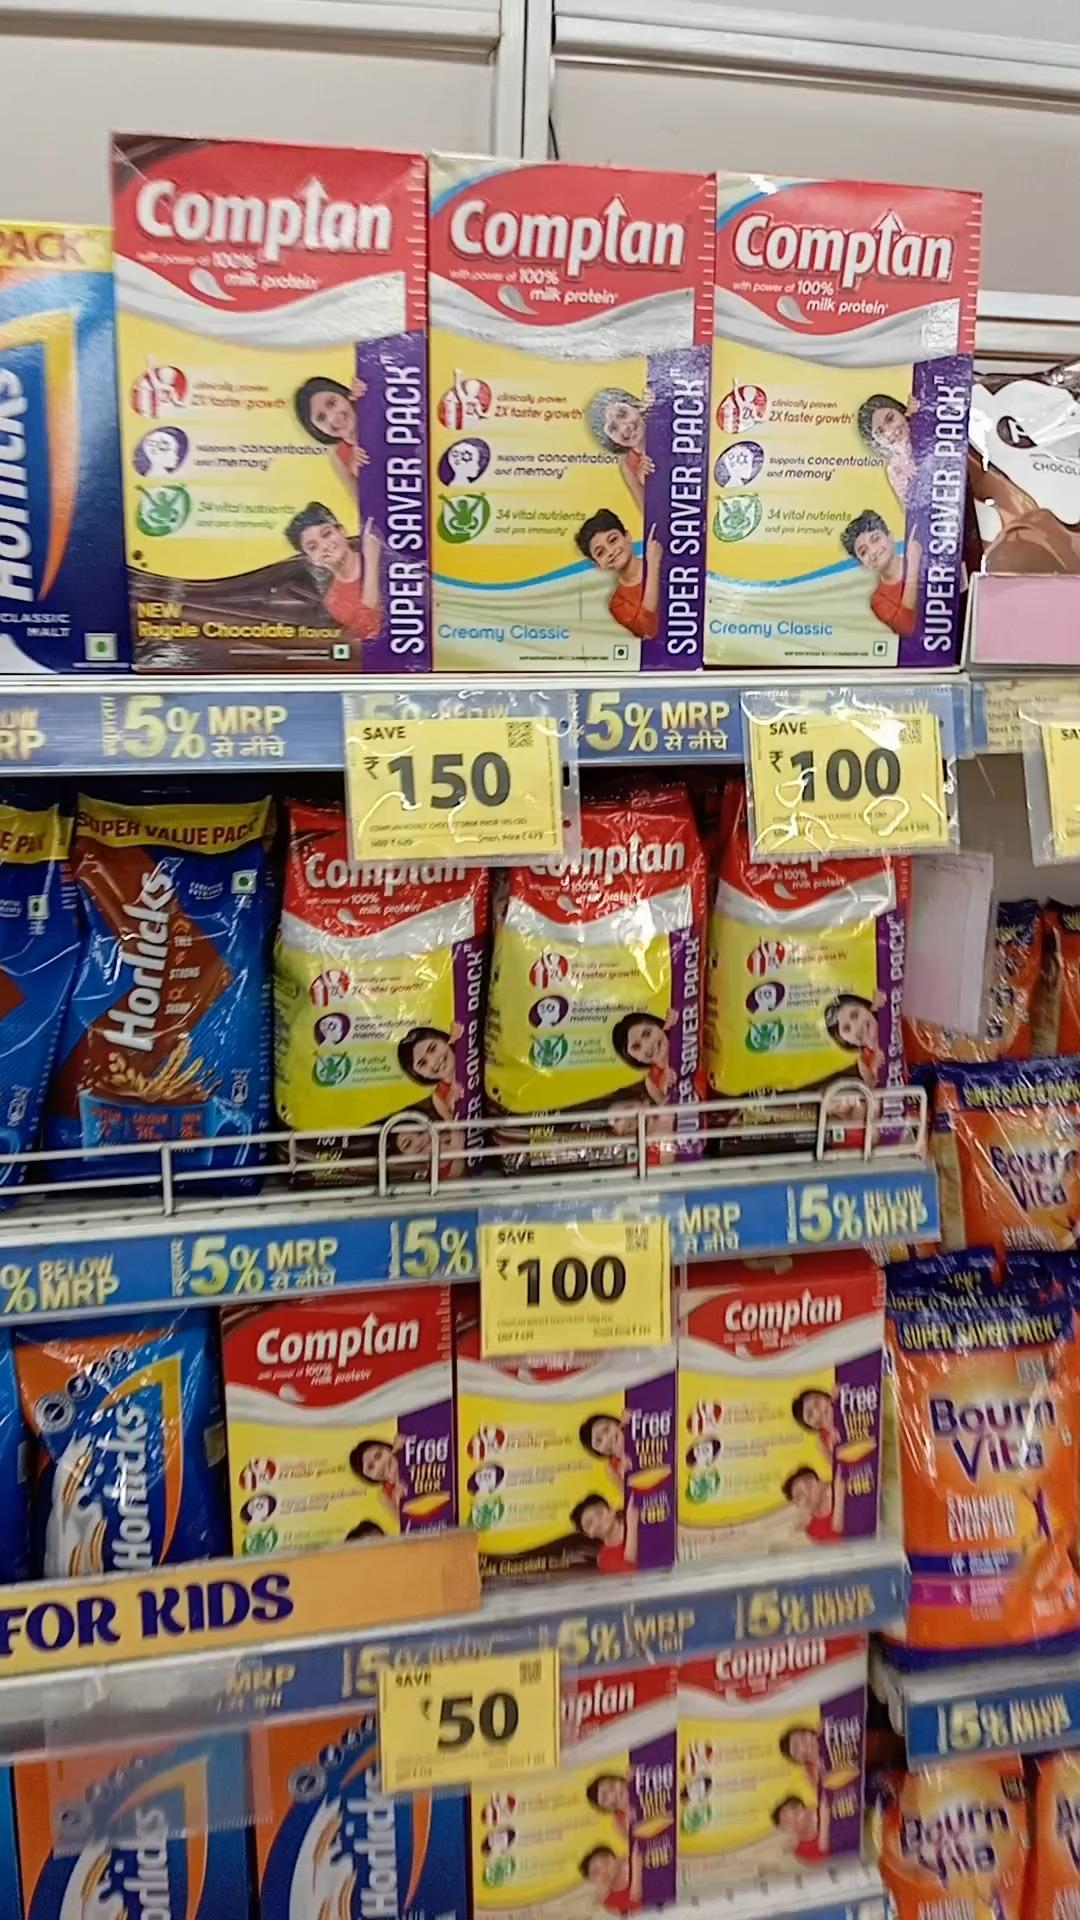COMPLAN_CHOCOLATE_1_KG_PACK: (107, 137, 426, 670), (435, 158, 703, 666), (715, 173, 972, 662)
COMPLAN_CHOCOLATE_500_GMS_PACK: (229, 1299, 452, 1544), (462, 1352, 669, 1585)
COMPLAN_KESAR_BADAM_500_GMS_PACK: (682, 1273, 886, 1552), (679, 1631, 869, 1905), (475, 1754, 666, 1920)
COMPLAN_RC_POUCH_700_GMS_12: (278, 812, 487, 1179), (498, 811, 708, 1170), (713, 862, 910, 1153)
HORLICK_CLASSIC_MALT_750_G_POUCH: (25, 1319, 224, 1569)
